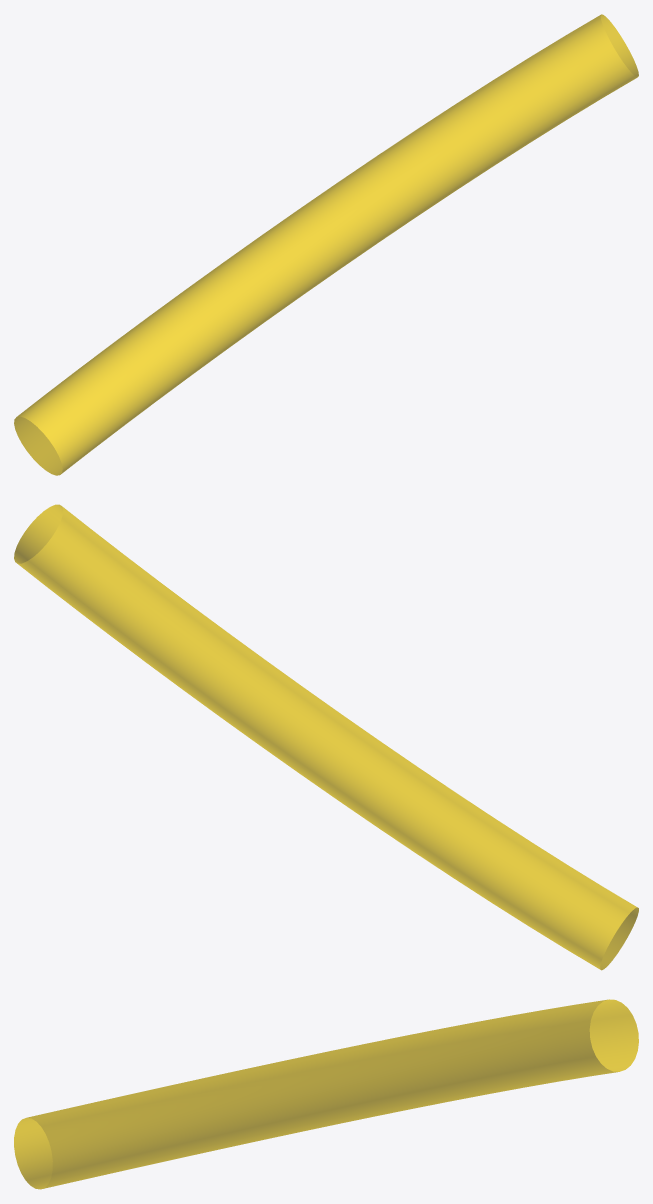
File: Event_419990632_track_66.fbx
The picture shows the model from 3 angles, top to bottom: view 1: azimuth 30°, elevation 25°; view 2: azimuth 150°, elevation 25°; view 3: azimuth 330°, elevation 25°; orthographic projection.
Visible parts, largest first — view 1: Model; view 2: Model; view 3: Model.
Part boxes in pixels (box(x1,y1,x2,y2)): Model: box(14, 14, 638, 475); Model: box(14, 504, 638, 970); Model: box(14, 999, 638, 1189).
Bounding box in the file's own units: 0.3835 × 0.1944 × 0.051.
